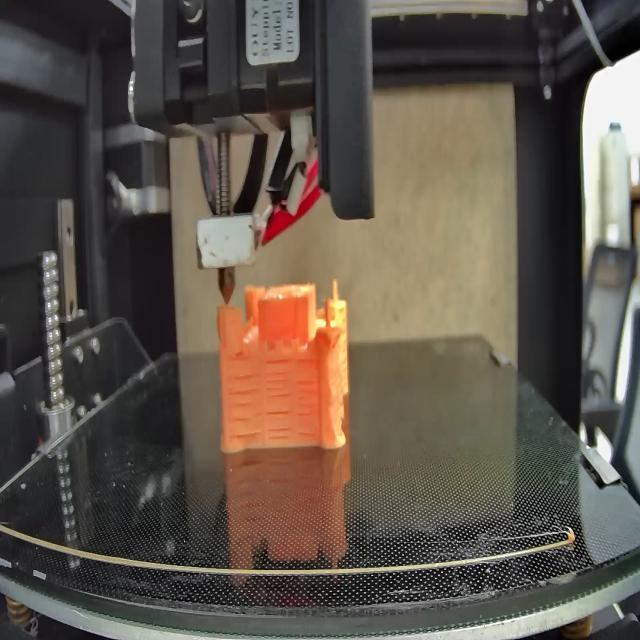cracks: (224, 372, 259, 443), (297, 376, 318, 442), (264, 358, 292, 401), (267, 408, 291, 440), (294, 354, 320, 364)
